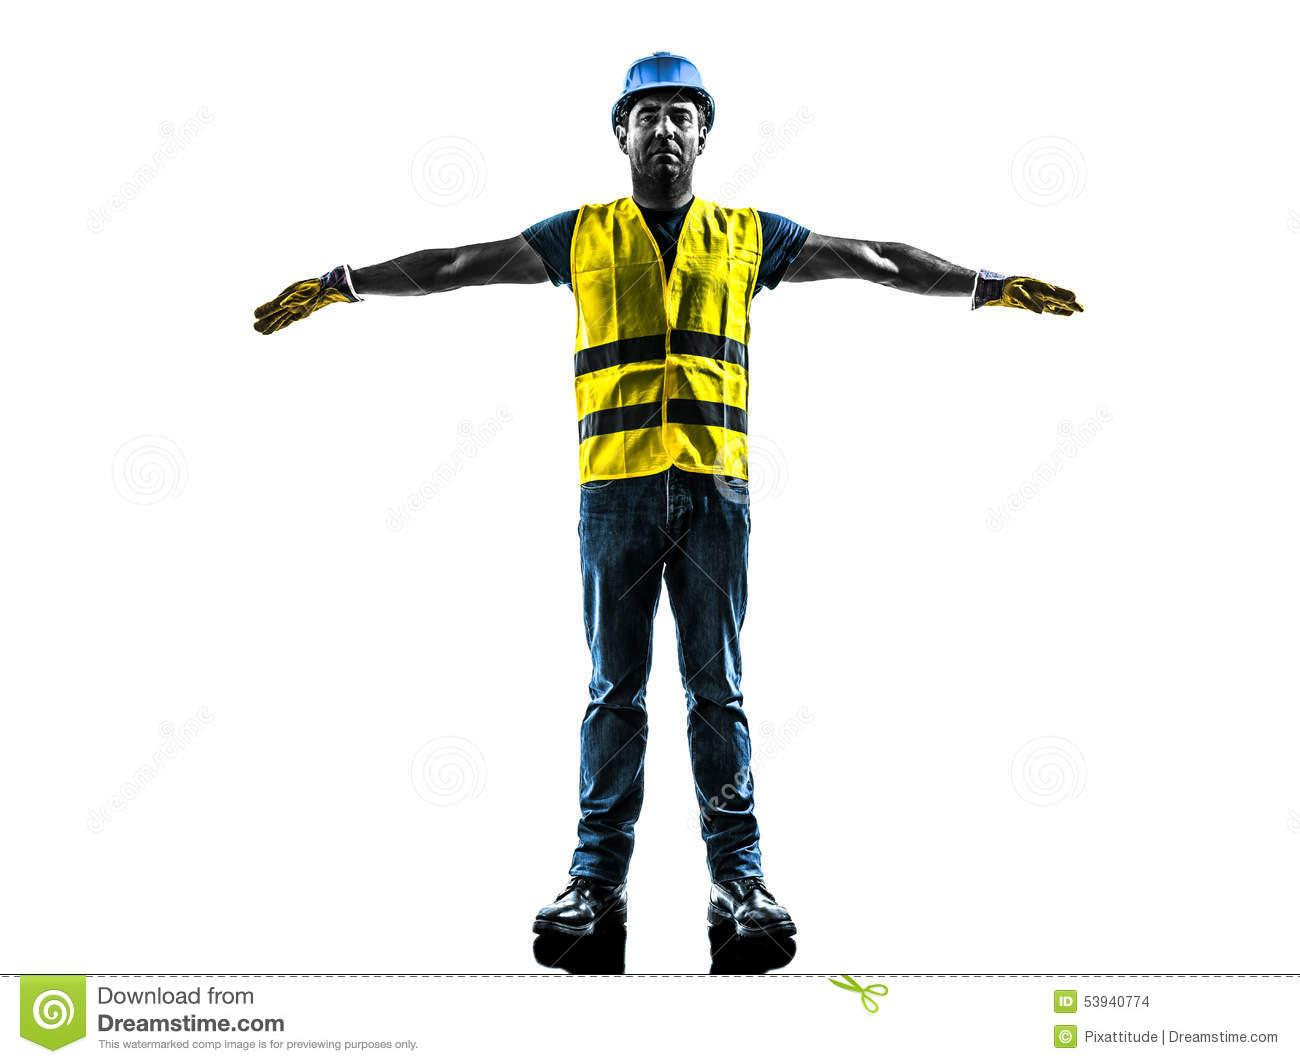helmet: (609, 53, 719, 134)
